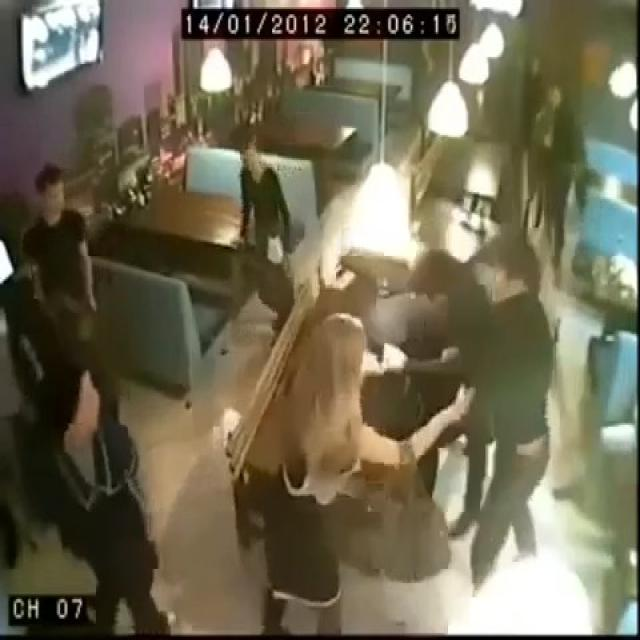fight: (362, 238, 537, 424)
